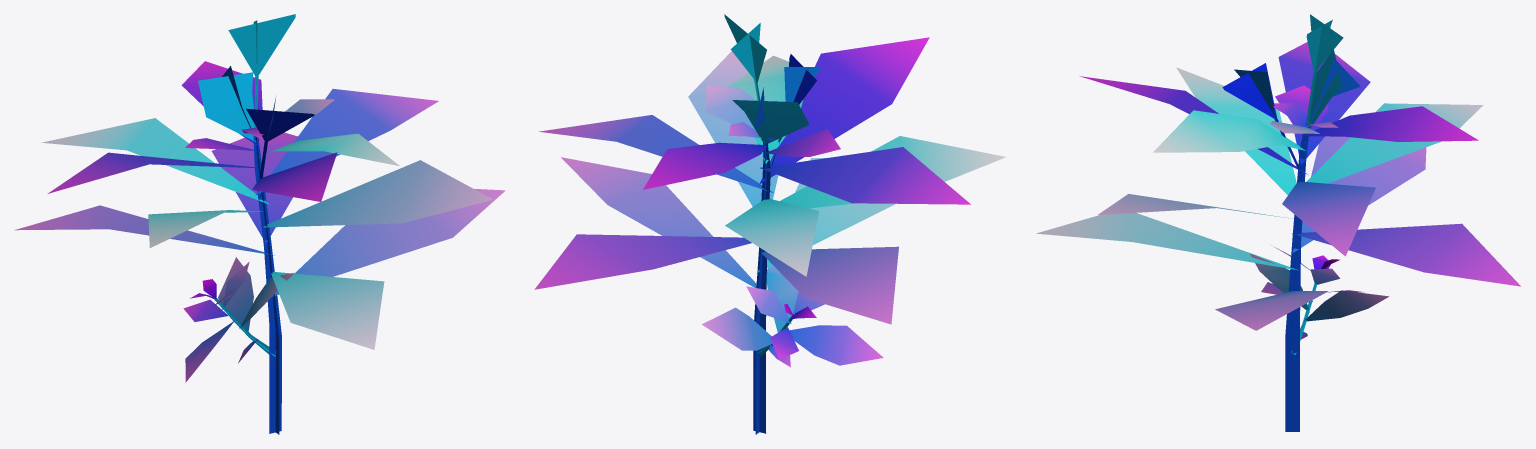
Rendered from xefmcgrqx_VarC_LOD1.fbx.
The picture shows the model from 3 angles, left to right: view 1: azimuth 30°, elevation 25°; view 2: azimuth 150°, elevation 25°; view 3: azimuth 270°, elevation 25°; orthographic projection. The views are drawn at different scales.
Visible parts, largest first — view 1: _rfkv_VarC_LOD4; view 2: _rfkv_VarC_LOD4; view 3: _rfkv_VarC_LOD4.
Part boxes in pixels (x1=…): _rfkv_VarC_LOD4: x1=14, y1=14, x2=505, y2=434; _rfkv_VarC_LOD4: x1=534, y1=14, x2=1005, y2=434; _rfkv_VarC_LOD4: x1=1036, y1=14, x2=1520, y2=431.
Bounding box in the file's own units: 50.2 × 45.56 × 48.57.
